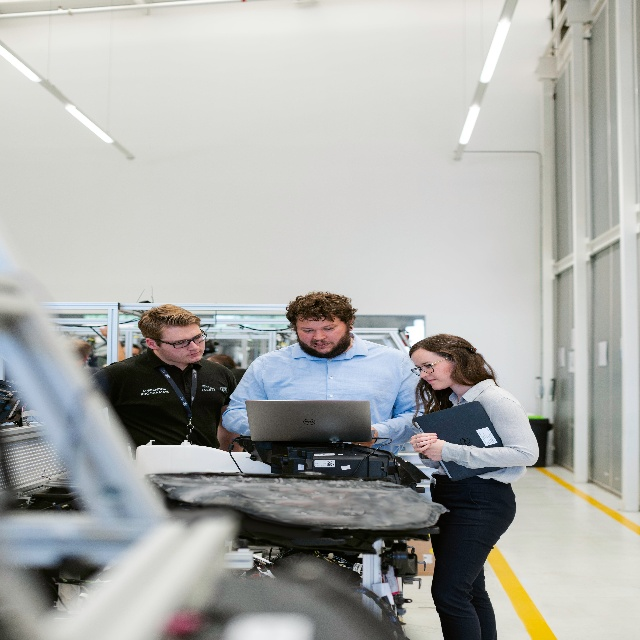Gafas: (152, 327, 207, 349), (410, 357, 449, 377)
Sin_guantes: (409, 431, 438, 454), (421, 436, 446, 462)
